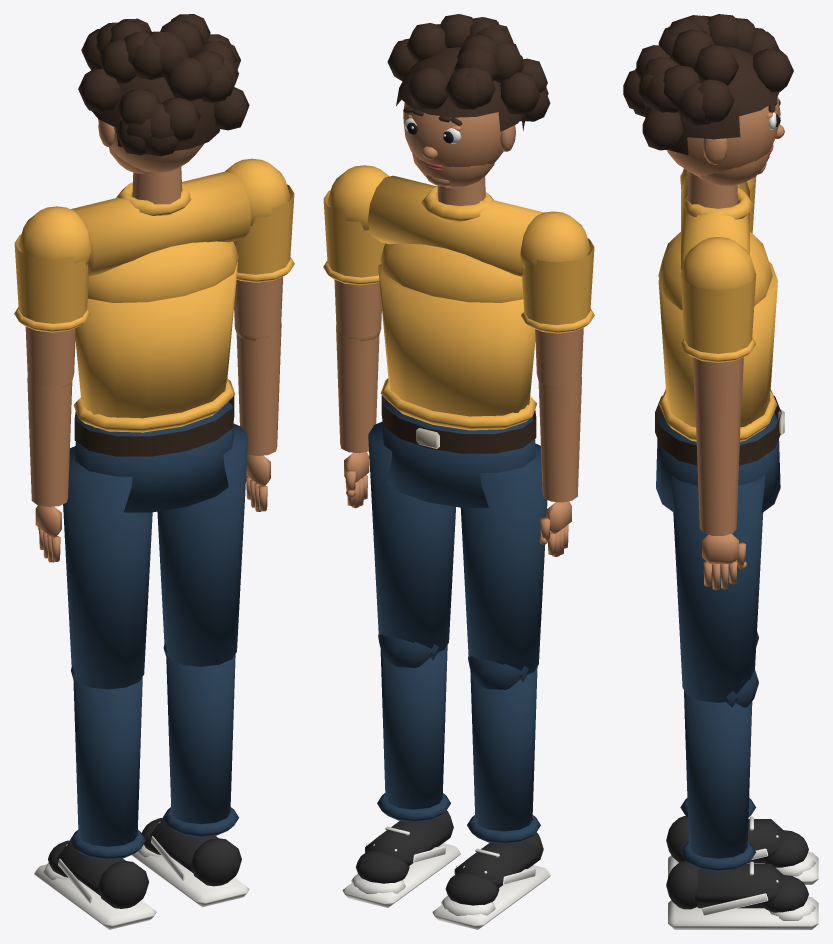
File: person_3.glb
The picture shows the model from 3 angles, left to right: view 1: azimuth 30°, elevation 25°; view 2: azimuth 150°, elevation 25°; view 3: azimuth 270°, elevation 25°; orthographic projection. The views are drawn at different scales.
Parts seen in each view (by area): view 1: Body, Head, ShinL, ShinR, LegL, LegR, ArmL, ArmR, ForeArmL, ForeArmR; view 2: Body, Head, ShinL, ShinR, LegL, LegR, ArmL, ArmR, ForeArmL, ForeArmR; view 3: Head, ShinR, Body, LegR, ArmR, ForeArmR, ShinL.
Part boxes in pixels (x1,y1,x2,y2): Body: (71,171,251,512); Head: (78,14,249,214); ShinL: (34,677,156,929); ShinR: (131,654,249,907); LegL: (63,446,152,689); LegR: (157,423,248,666); ArmL: (14,206,91,387); ArmR: (225,158,294,340); ForeArmL: (27,378,72,562); ForeArmR: (236,323,281,511); Body: (367,175,543,507); Head: (387,14,550,206); ShinL: (432,667,550,929); ShinR: (342,645,460,907); LegL: (460,443,547,689); LegR: (368,421,455,667); ArmL: (520,211,594,386); ArmR: (323,165,389,341); ForeArmL: (538,377,581,557); ForeArmR: (336,325,379,508); Head: (623,14,793,208); ShinR: (666,690,818,929); Body: (655,174,784,513); LegR: (671,475,765,707); ArmR: (680,237,756,416); ForeArmR: (695,408,747,590); ShinL: (666,798,818,884).
Bounding box in the file's own units: 0.554 × 1.73 × 0.3503.
